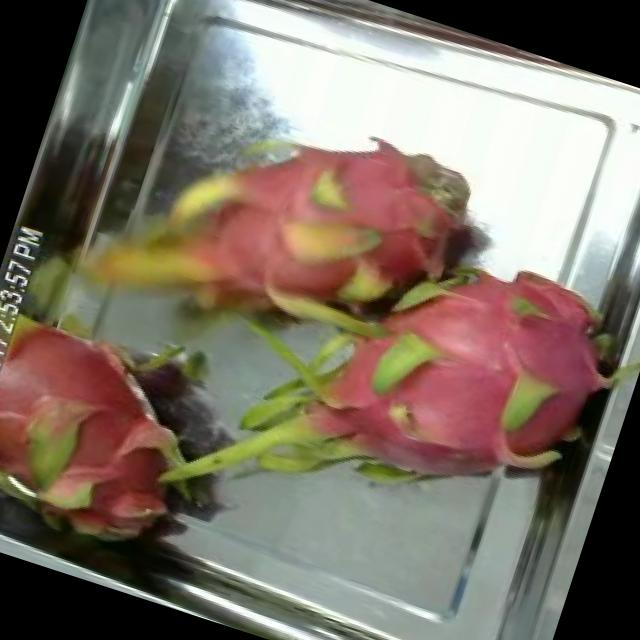Fruit: (14, 342, 231, 574)
